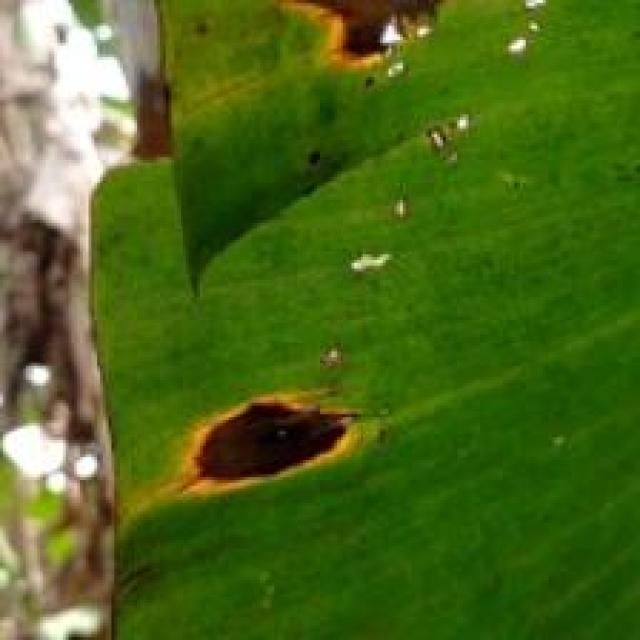Bacterial_spot: (176, 378, 394, 490), (258, 0, 480, 83)
